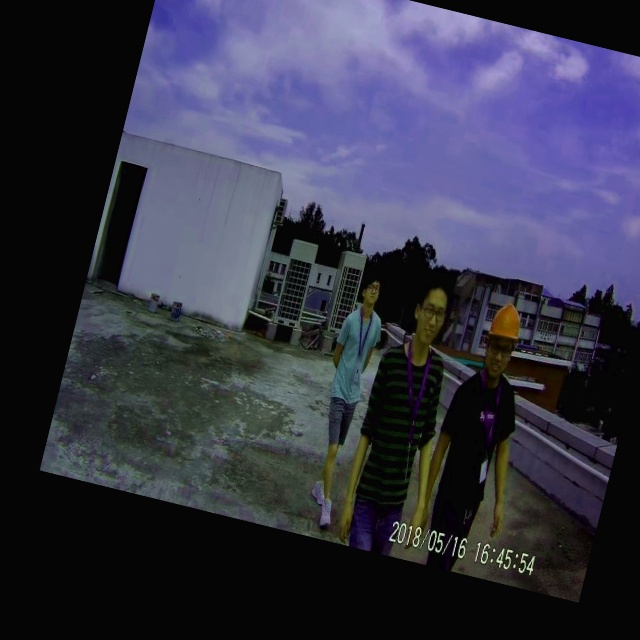Con_Casco: (481, 301, 525, 377)
Sin_Casco_Mascarrilla: (409, 268, 454, 341)
Sin_Chaleco: (347, 337, 451, 506), (424, 366, 524, 521), (325, 304, 386, 406)
